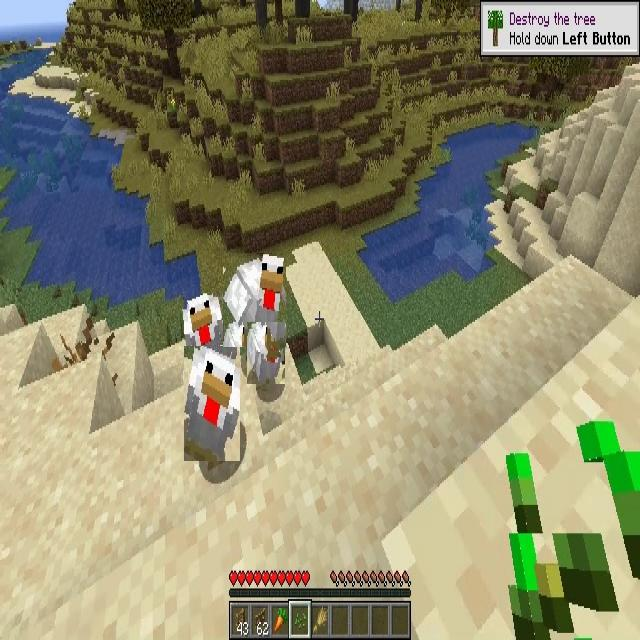duck: (184, 346, 240, 461), (223, 253, 286, 347), (183, 293, 225, 355), (247, 322, 285, 384)
